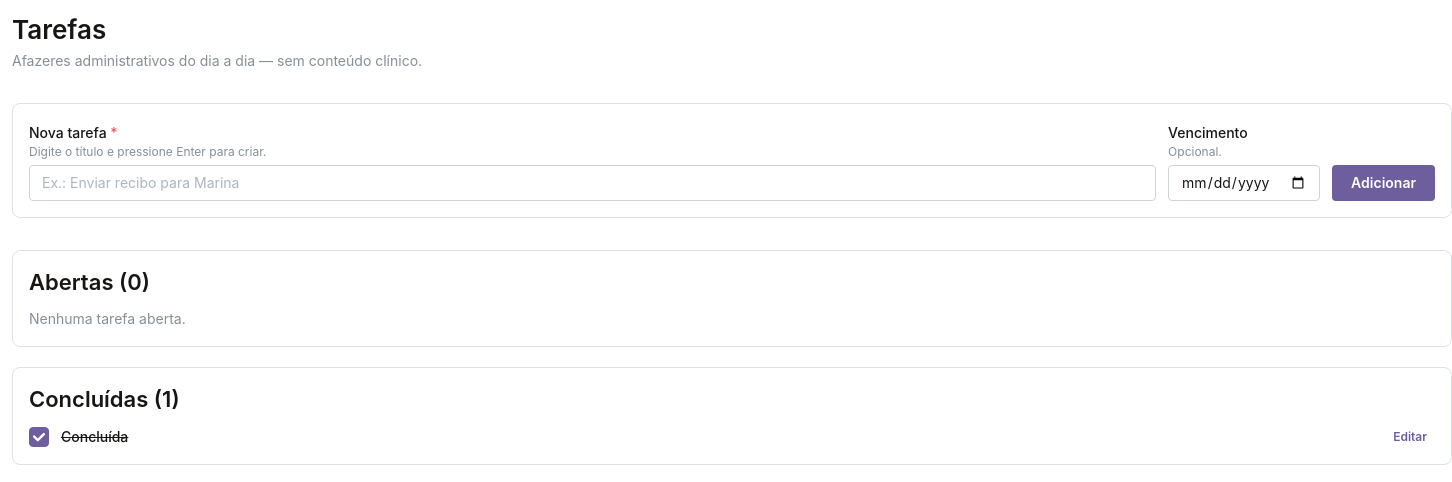
TasksPage — conclusão e reabertura com um clique › reabre uma tarefa concluída ao desmarcar o checkbox, movendo-a de volta para abertas
The image size is (1452, 482).
Step 1. Click the checkbox with test id "task-toggle-t1" → (39, 438), box [29,428,49,448]
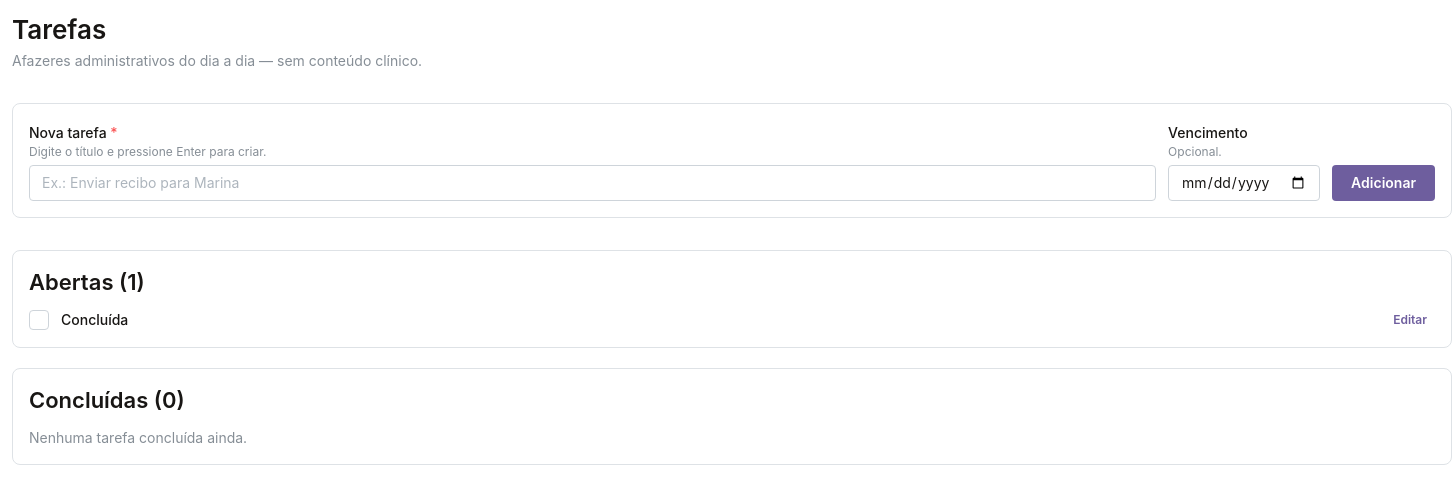
Expected: the text "Concluída" is shown, [61,310,128,330]
